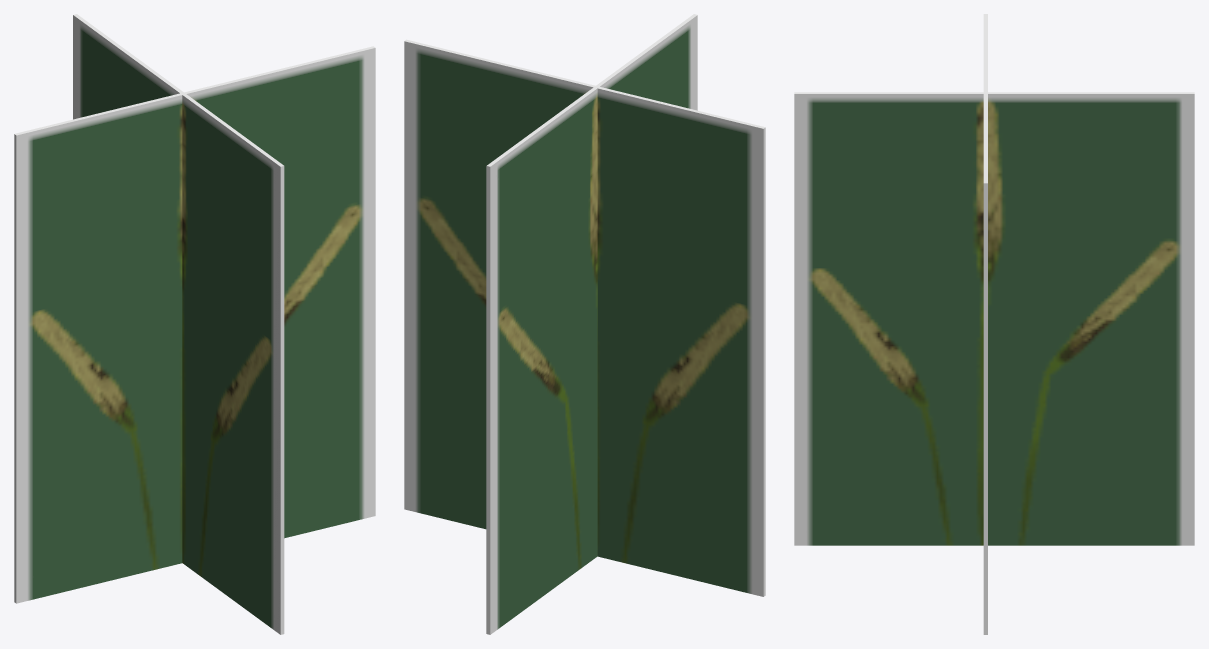
Rendered from Flower7.fbx.
The picture shows the model from 3 angles, left to right: view 1: azimuth 30°, elevation 25°; view 2: azimuth 150°, elevation 25°; view 3: azimuth 270°, elevation 25°; orthographic projection. The views are drawn at different scales.
Parts seen in each view (by area): view 1: n_grass_diff_0_47.004; view 2: n_grass_diff_0_47.004; view 3: n_grass_diff_0_47.004.
Part boxes in pixels (box(x1,y1,x2,y2)): n_grass_diff_0_47.004: box(14, 14, 375, 634); n_grass_diff_0_47.004: box(404, 14, 765, 634); n_grass_diff_0_47.004: box(794, 14, 1194, 634).
Size of the model in its own units: 93.6 by 117 by 93.6.
